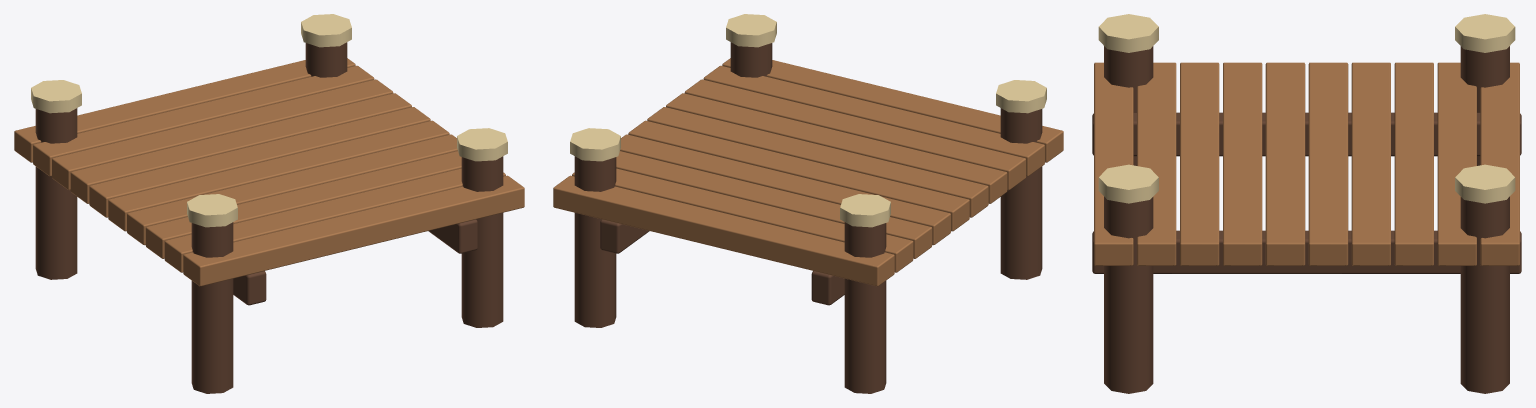
The model's file is dock-segment.glb.
3 renders of one model, left to right at view 1: azimuth 30°, elevation 25°; view 2: azimuth 150°, elevation 25°; view 3: azimuth 270°, elevation 25°, orthographic. The views are drawn at different scales.
Visible parts, largest first — view 1: deck-plank-9, deck-plank-4, deck-plank-3, deck-plank-2, deck-plank-5, deck-plank-1, pile--0.83-0.83, deck-plank-6, pile-0.83-0.83, pile--0.83--0.83, deck-plank-7, deck-plank-8 (+8 smaller); view 2: deck-plank-0, deck-plank-5, deck-plank-6, deck-plank-7, deck-plank-4, deck-plank-8, pile--0.83--0.83, deck-plank-3, pile-0.83--0.83, pile--0.83-0.83, deck-plank-2, deck-plank-1 (+8 smaller); view 3: deck-plank-4, deck-plank-5, deck-plank-2, deck-plank-3, deck-plank-6, deck-plank-7, pile-0.83--0.83, pile-0.83-0.83, deck-plank-1, deck-plank-8, deck-plank-0, deck-plank-9 (+8 smaller).
Boxes of the visible parts, bbox=[...] form: deck-plank-9: bbox=[183, 175, 524, 286]; deck-plank-4: bbox=[89, 107, 430, 217]; deck-plank-3: bbox=[70, 93, 411, 203]; deck-plank-2: bbox=[52, 79, 393, 190]; deck-plank-5: bbox=[108, 120, 449, 231]; deck-plank-1: bbox=[33, 65, 374, 176]; pile--0.83-0.83: bbox=[191, 222, 233, 393]; deck-plank-6: bbox=[127, 134, 457, 245]; pile-0.83-0.83: bbox=[461, 156, 503, 327]; pile--0.83--0.83: bbox=[35, 108, 77, 279]; deck-plank-7: bbox=[145, 151, 461, 258]; deck-plank-8: bbox=[164, 168, 505, 272]; deck-plank-0: bbox=[553, 175, 894, 286]; deck-plank-5: bbox=[647, 107, 988, 217]; deck-plank-6: bbox=[666, 93, 1007, 203]; deck-plank-7: bbox=[684, 79, 1025, 190]; deck-plank-4: bbox=[628, 120, 969, 231]; deck-plank-8: bbox=[703, 65, 1044, 176]; pile--0.83--0.83: bbox=[844, 222, 886, 393]; deck-plank-3: bbox=[620, 134, 950, 245]; pile-0.83--0.83: bbox=[574, 156, 616, 327]; pile--0.83-0.83: bbox=[1000, 108, 1042, 279]; deck-plank-2: bbox=[616, 151, 932, 258]; deck-plank-1: bbox=[572, 168, 913, 272]; deck-plank-4: bbox=[1308, 62, 1348, 265]; deck-plank-5: bbox=[1265, 62, 1305, 265]; deck-plank-2: bbox=[1394, 62, 1433, 265]; deck-plank-3: bbox=[1351, 62, 1390, 265]; deck-plank-6: bbox=[1223, 62, 1262, 265]; deck-plank-7: bbox=[1180, 62, 1219, 265]; pile-0.83--0.83: bbox=[1460, 196, 1509, 393]; pile-0.83-0.83: bbox=[1104, 196, 1153, 393]; deck-plank-1: bbox=[1437, 62, 1476, 265]; deck-plank-8: bbox=[1137, 62, 1176, 265]; deck-plank-0: bbox=[1480, 62, 1519, 265]; deck-plank-9: bbox=[1094, 62, 1133, 265].
Size of the model in its own units: 2 by 1.06 by 2.
